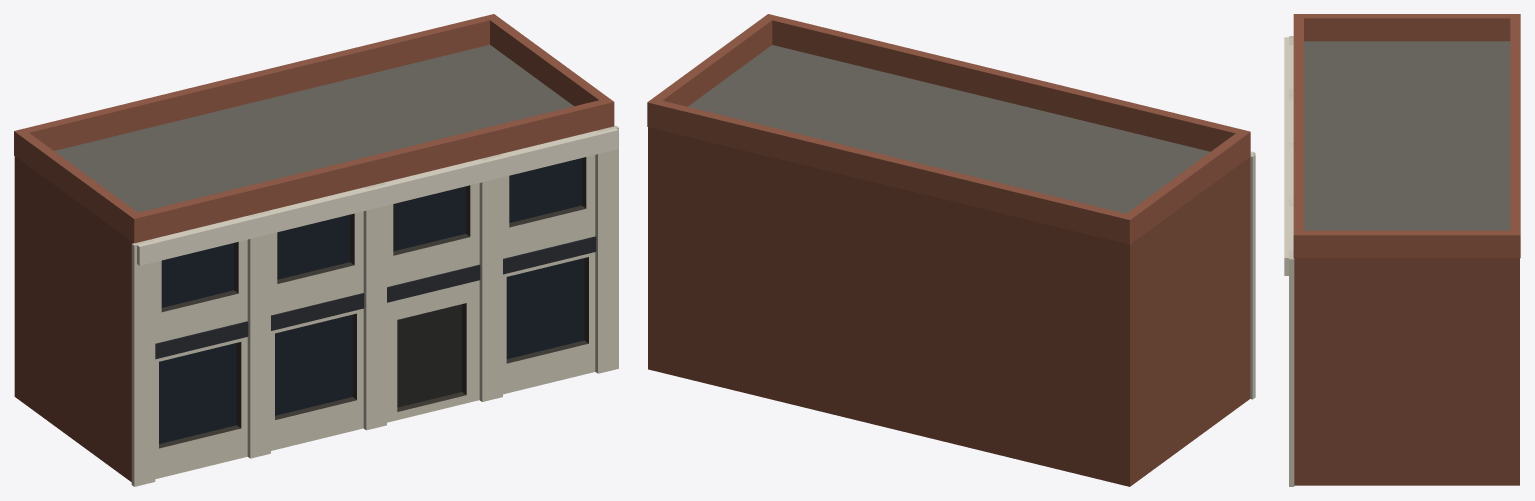
File: bank-1913-b09397.glb
3 renders of one model, left to right at view 1: azimuth 30°, elevation 25°; view 2: azimuth 150°, elevation 25°; view 3: azimuth 270°, elevation 25°, orthographic. The views are drawn at different scales.
Parts seen in each view (by area): view 1: kit-bank-1913-b09397; view 2: kit-bank-1913-b09397; view 3: kit-bank-1913-b09397.
Boxes of the visible parts, bbox=[...] form: kit-bank-1913-b09397: bbox=[14, 14, 618, 486]; kit-bank-1913-b09397: bbox=[647, 14, 1255, 486]; kit-bank-1913-b09397: bbox=[1284, 14, 1520, 486].
Bounding box in the file's own units: 18.7 × 9.8 × 8.37.
